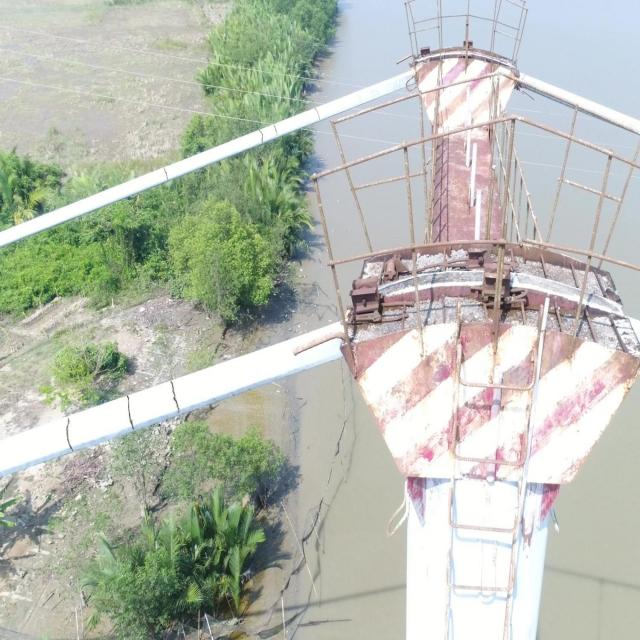crack: (125, 394, 136, 432), (169, 380, 181, 414), (65, 416, 75, 453), (314, 107, 320, 121), (258, 130, 264, 144), (272, 124, 278, 137), (164, 167, 168, 181)
